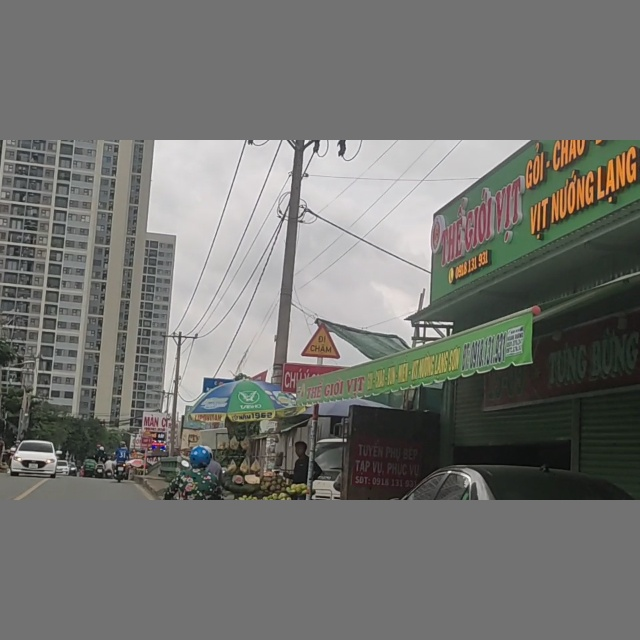W.245a: (301, 323, 341, 359)
